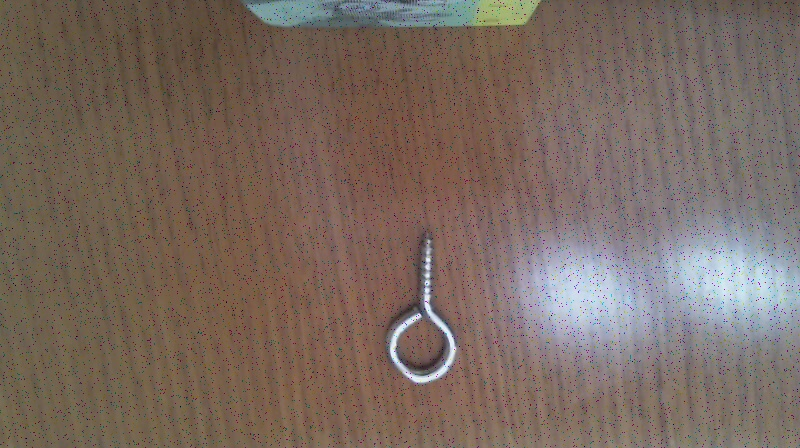O001: (378, 228, 464, 390)
